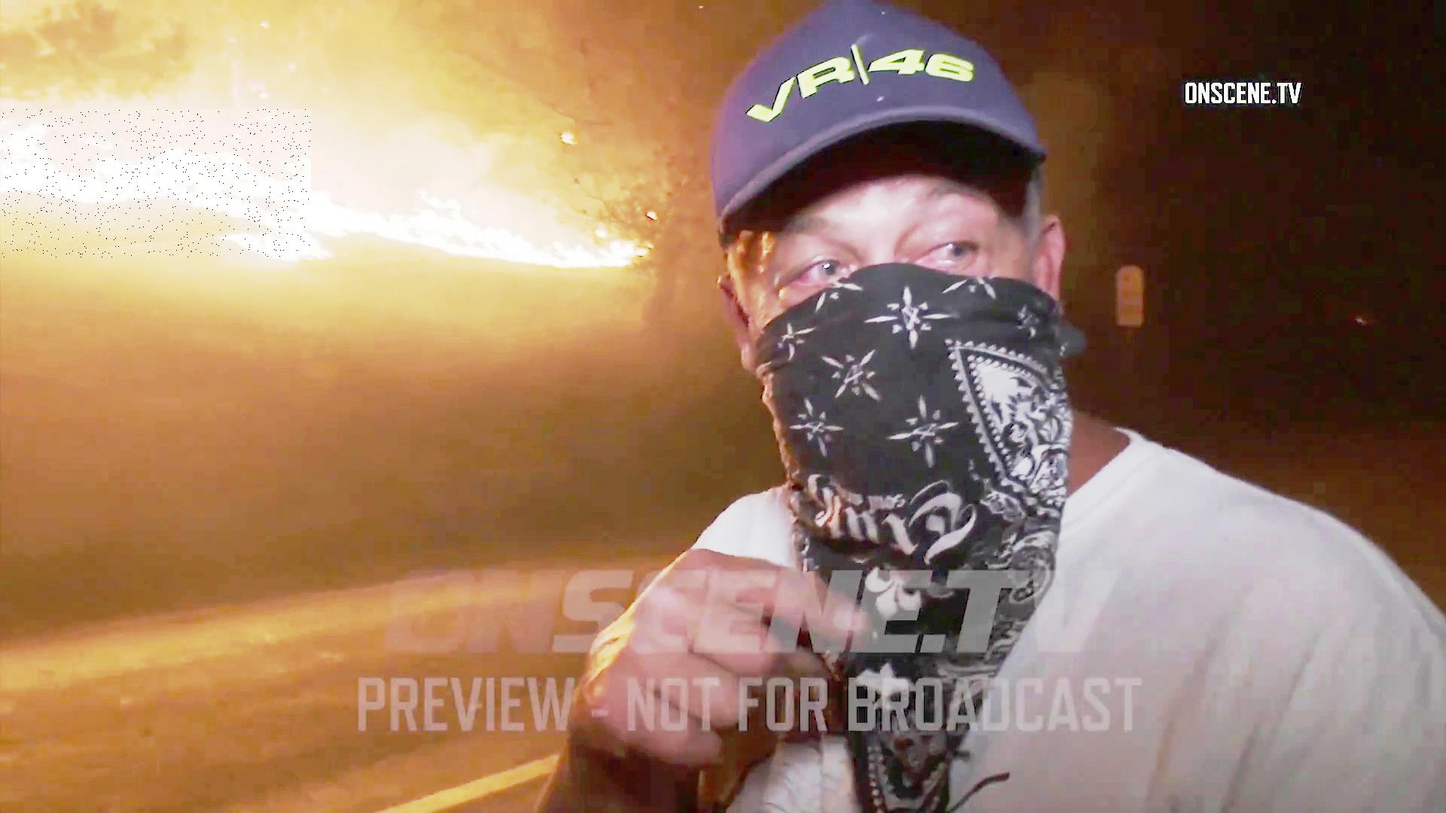fire: (2, 110, 311, 258)
